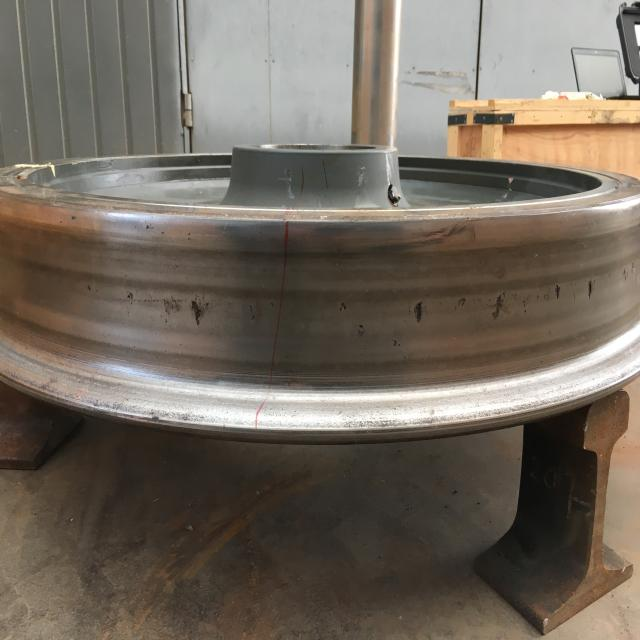Blue hole: (414, 301, 426, 325)
Peeling: (453, 279, 596, 324), (191, 298, 205, 324), (357, 322, 367, 335)
